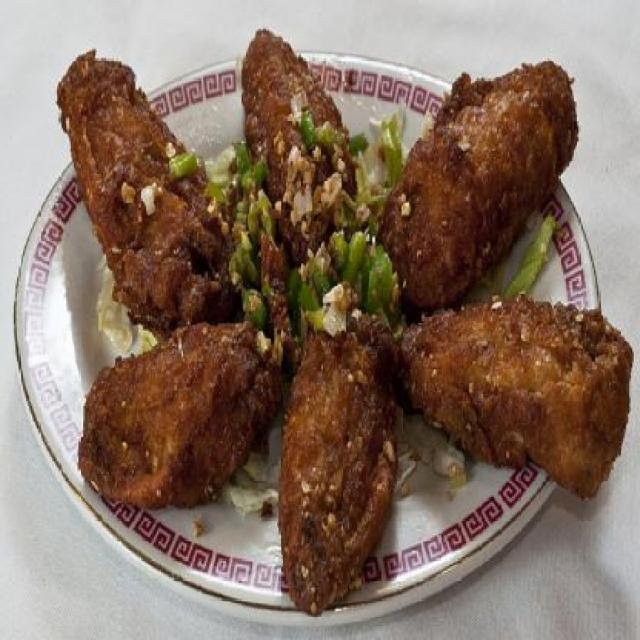Deep fried chicken wing: (57, 29, 628, 578)
